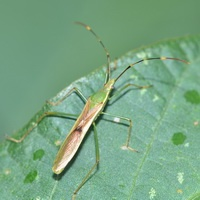insect: (0, 35, 199, 199)
